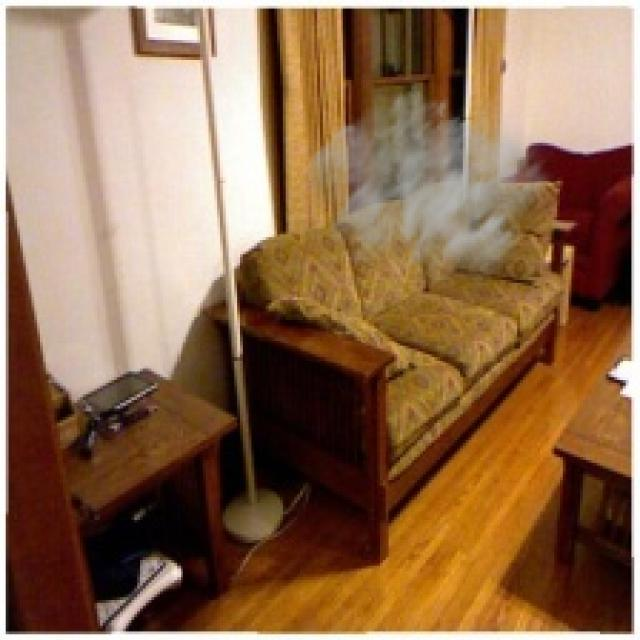Smoke: (292, 82, 562, 312)
